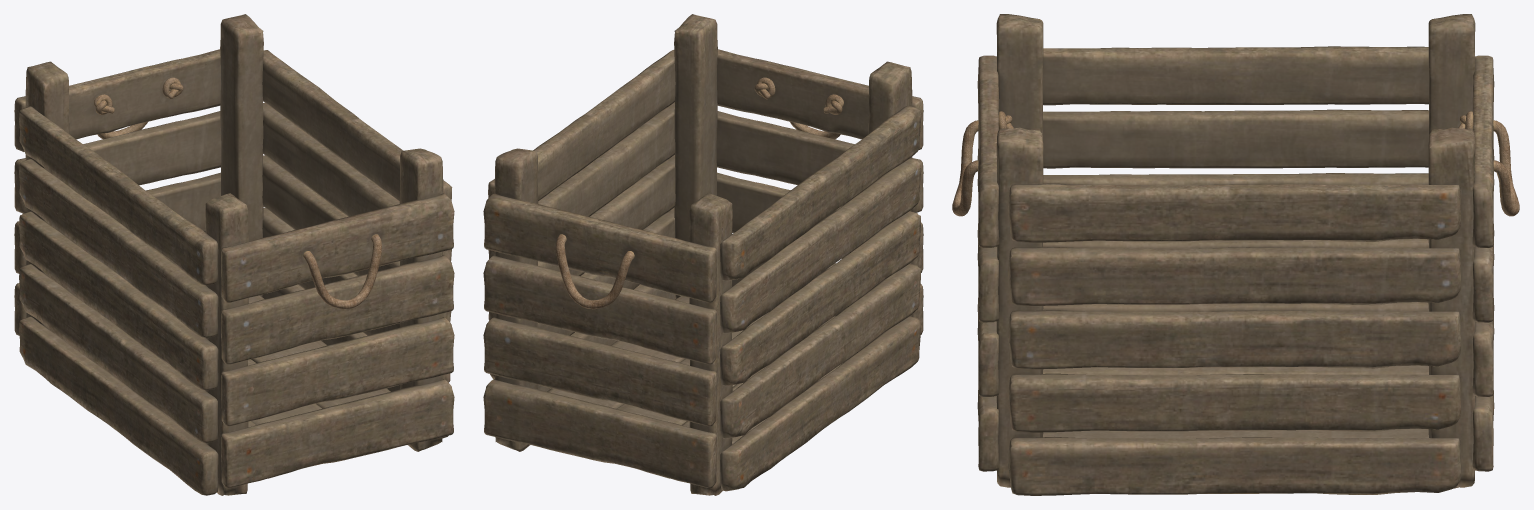
The model's file is caja_vacia.dae.
3 views of the same model, side by side, from view 1: azimuth 30°, elevation 25°; view 2: azimuth 150°, elevation 25°; view 3: azimuth 270°, elevation 25° (orthographic). The views are drawn at different scales.
Parts seen in each view (by area): view 1: Medieval box 3; view 2: Medieval box 3; view 3: Medieval box 3.
Boxes of the visible parts, x1,y1,x2,y2 form: Medieval box 3: (14, 14, 454, 495); Medieval box 3: (483, 14, 923, 495); Medieval box 3: (952, 14, 1519, 495).
Bounding box in the file's own units: 0.3088 × 0.5033 × 0.3457.
2 materials, 2 textured.
